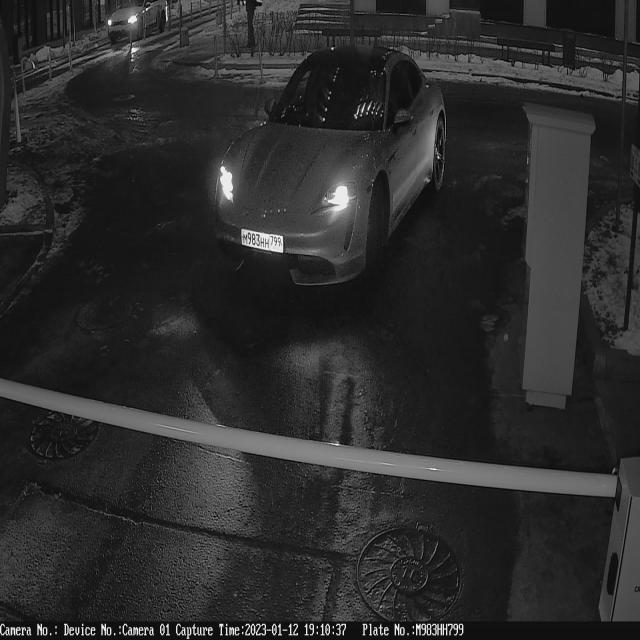car-plate-numbers: (239, 226, 287, 259)
